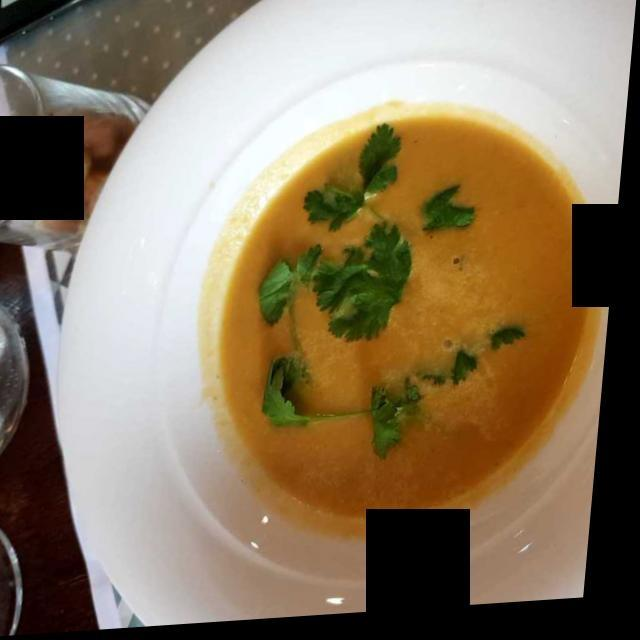soup: (219, 111, 594, 541)
